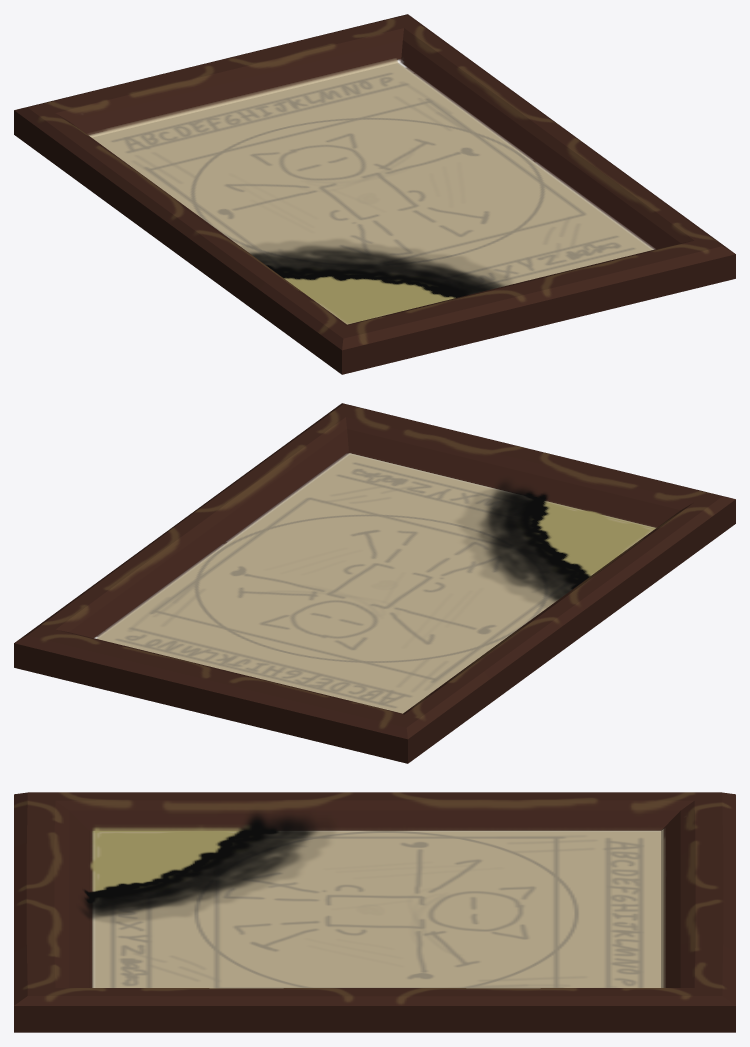
Rendered from Painting3Model.fbx.
3 renders of one model, top to bottom at view 1: azimuth 30°, elevation 25°; view 2: azimuth 150°, elevation 25°; view 3: azimuth 270°, elevation 25°, orthographic. The views are drawn at different scales.
Parts seen in each view (by area): view 1: pCube16; view 2: pCube16; view 3: pCube16.
Boxes of the visible parts, box(x1,y1,x2,y2) form: pCube16: box(14, 14, 735, 374); pCube16: box(14, 403, 735, 763); pCube16: box(14, 792, 735, 1032).
Bounding box in the file's own units: 0.0525 × 0.0038 × 0.0758.
